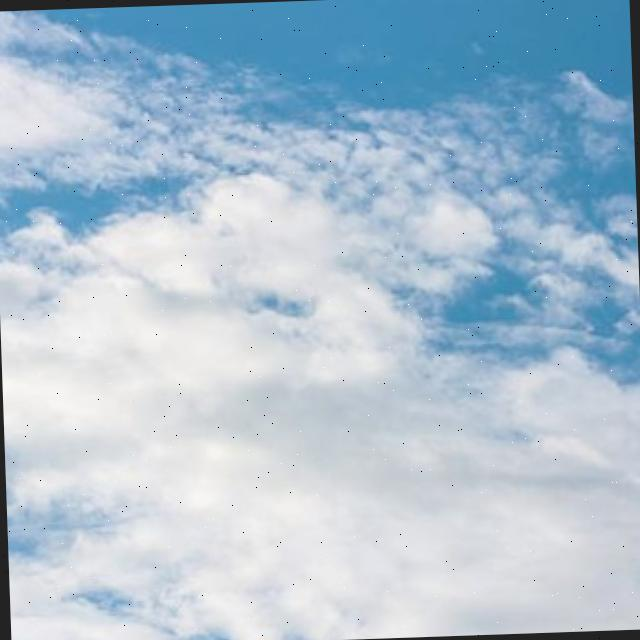As: (8, 38, 640, 612)
